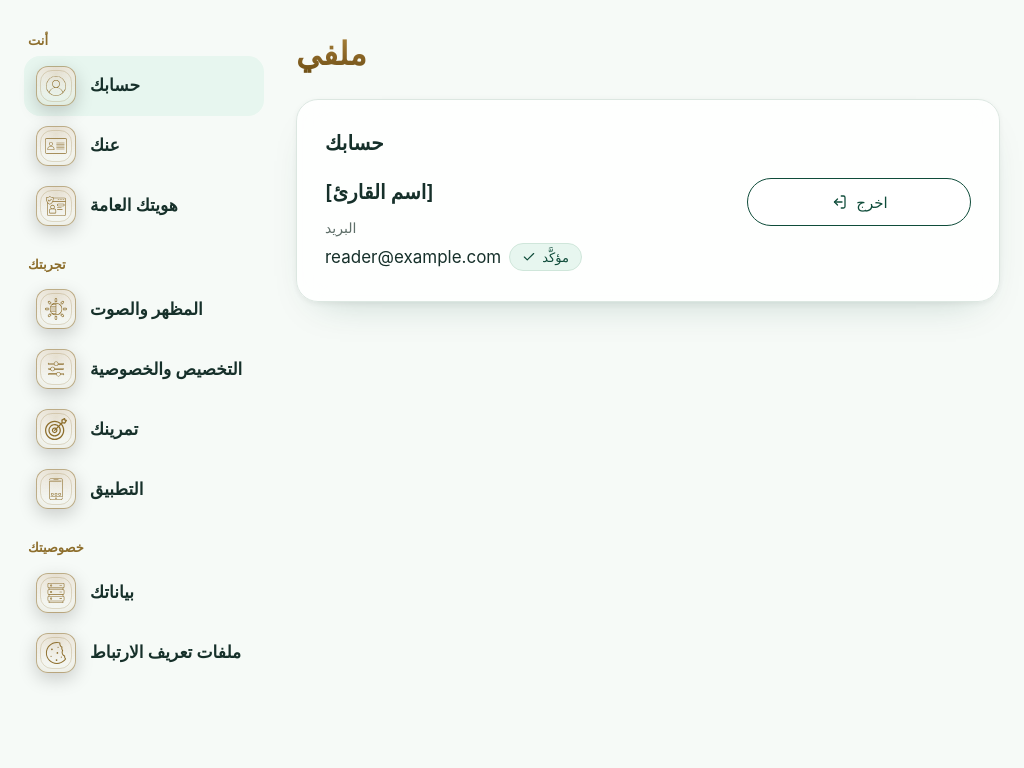
MeScreen signed in › shows the account, its sections and signs out
expect the text "[اسم القارئ]" is shown: met, box [325, 180, 434, 204]
expect the text "reader@example.com" is shown: met, box [325, 242, 501, 273]
Step 1. Click the button "اخرج" → click(859, 202), box [747, 178, 971, 226]
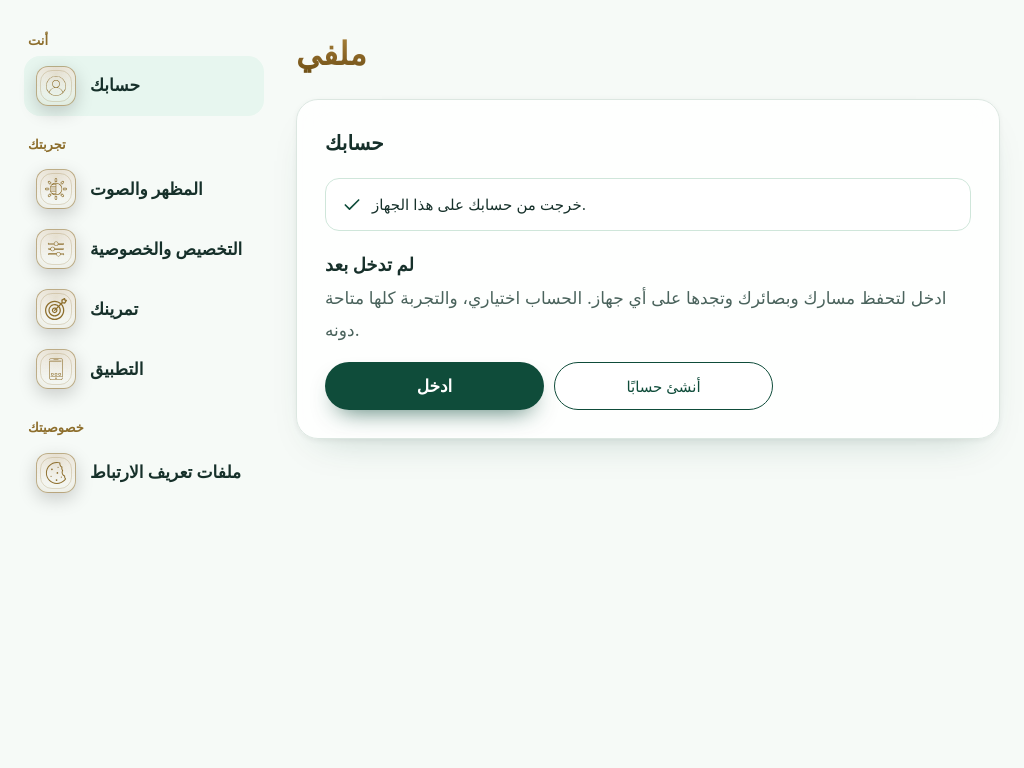
expect the text "خرجت من حسابك على هذا الجهاز." is shown: met, box [372, 195, 586, 214]
